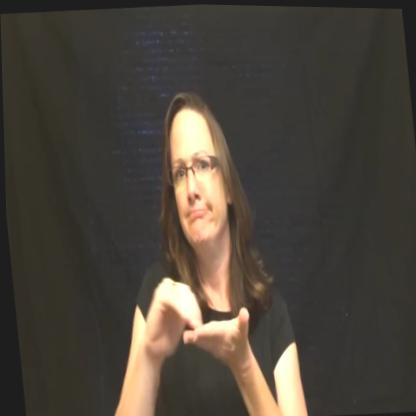ExcuseMe: (129, 242, 251, 392)
